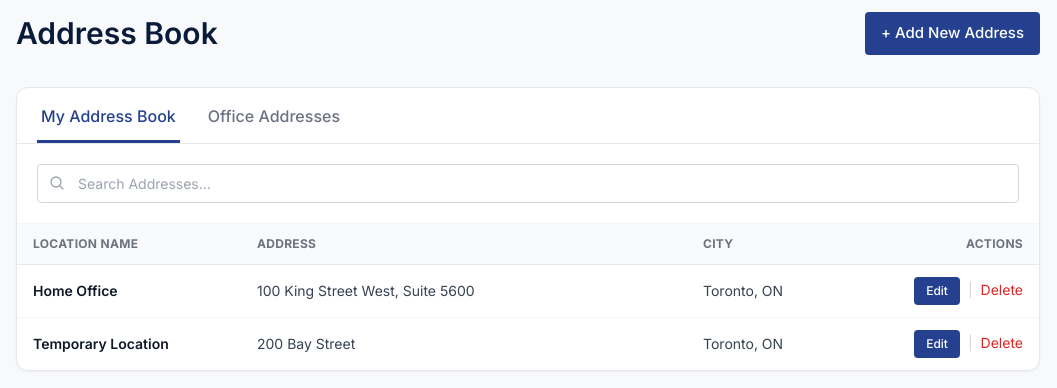
Test case: AddressBookPage › AB-19 Clear search on My tab
Step 1. Type "Home" into the search field with placeholder "Search Addresses..." → (528, 183), box left=37, top=164, right=1019, bottom=203
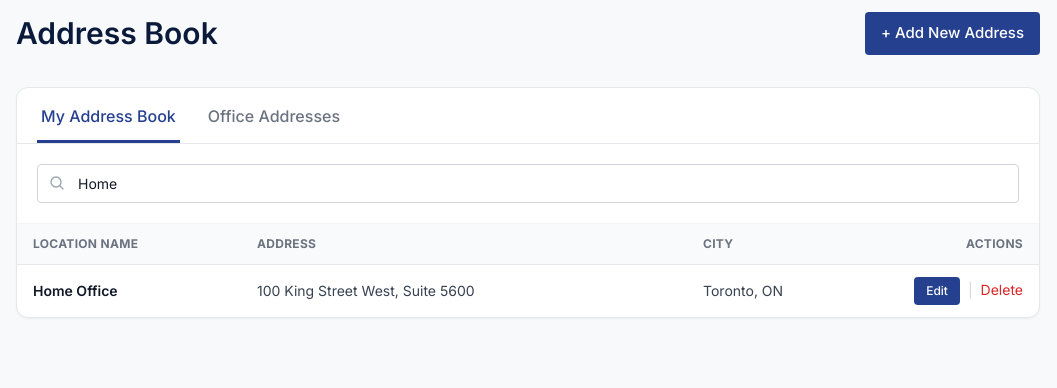
Step 2. Clear the search field named "Search Addresses..." → (528, 183), box left=37, top=164, right=1019, bottom=203
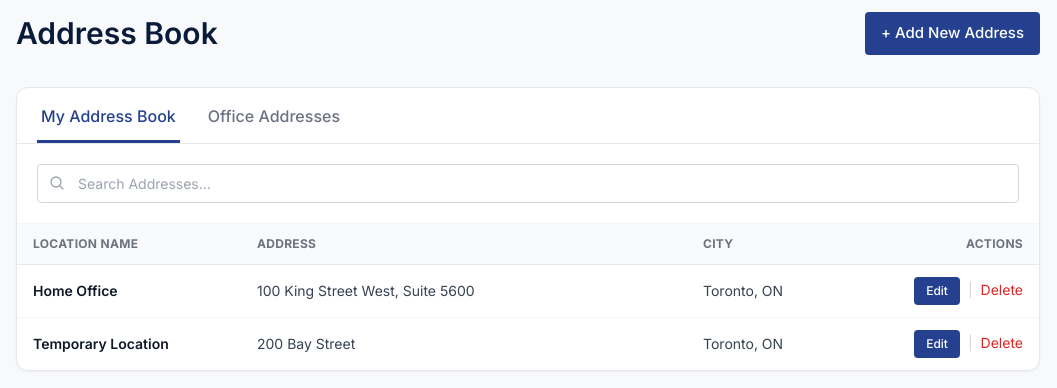
expect the text "Home Office" is shown: met, box left=17, top=264, right=241, bottom=318
expect the text "Temporary Location" is shown: met, box left=17, top=318, right=241, bottom=370
